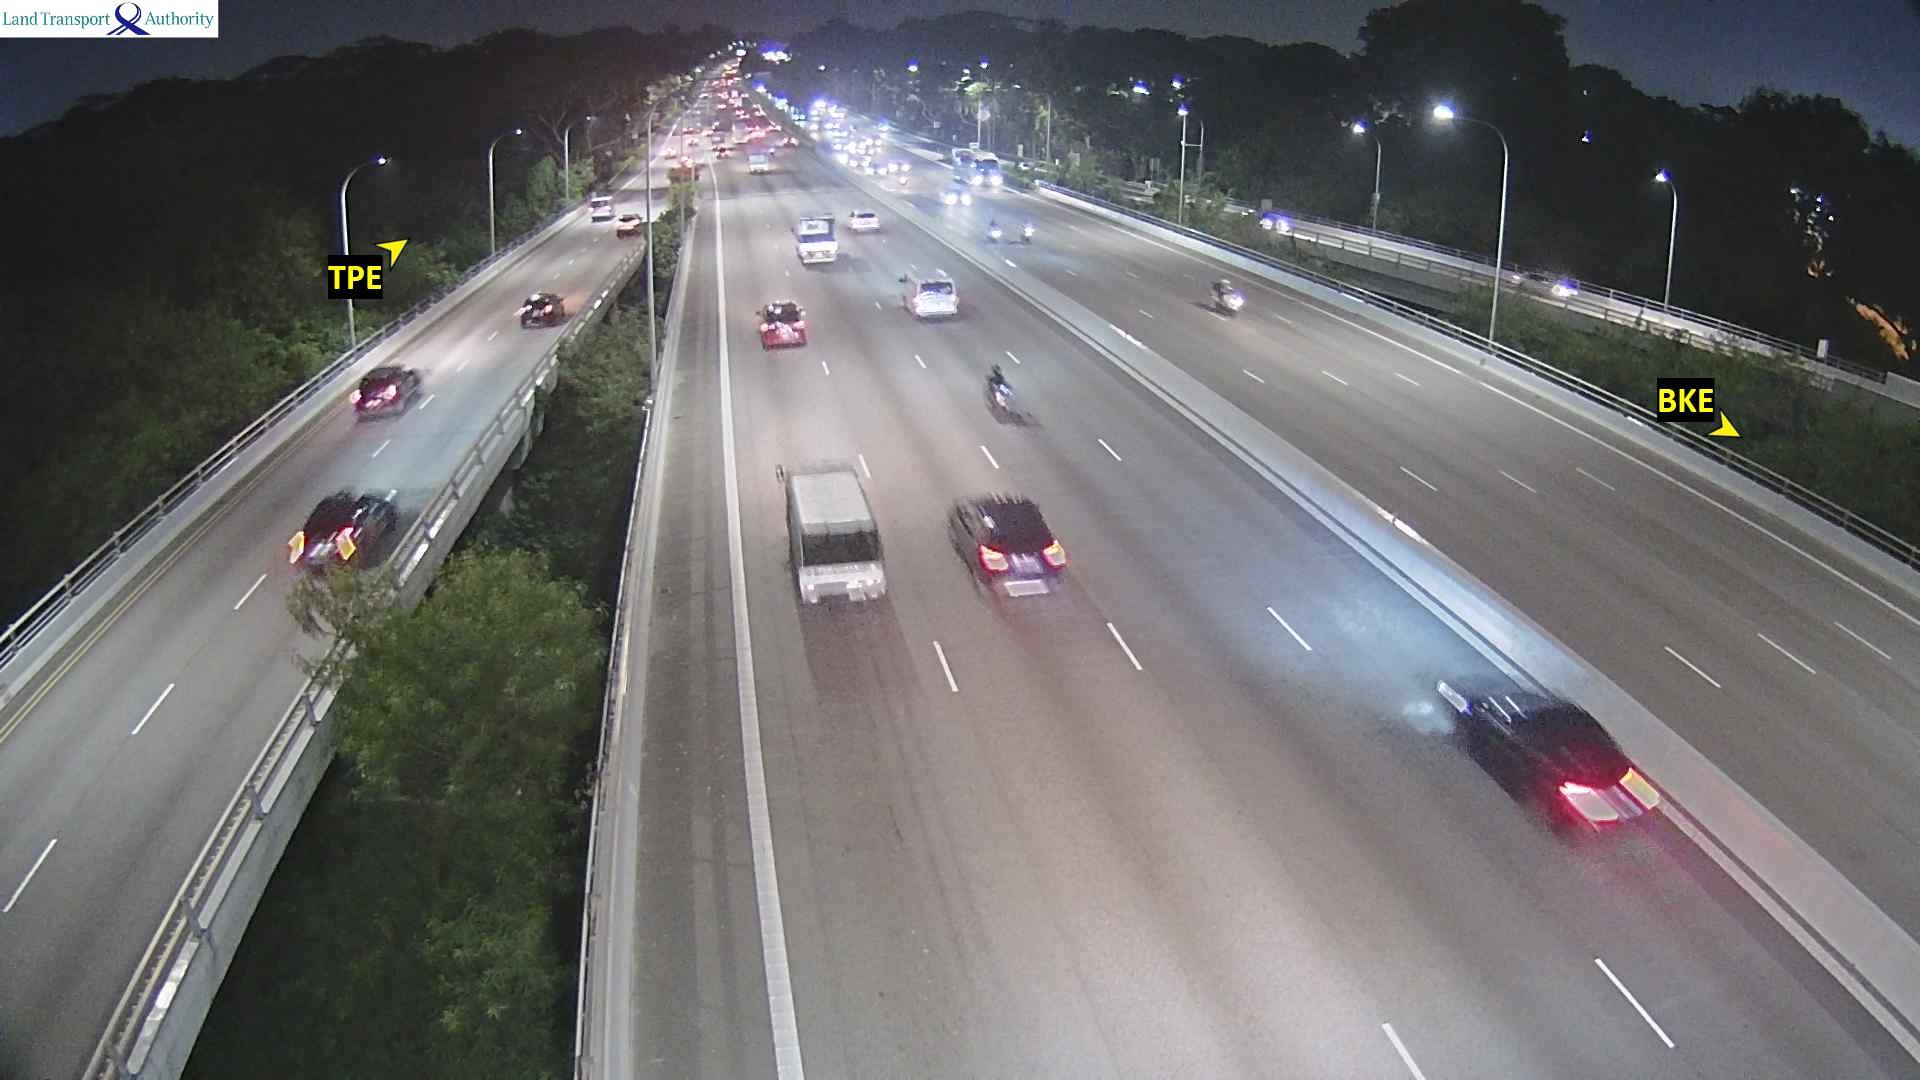incoming: (972, 156, 1005, 189), (1220, 286, 1250, 314), (1545, 277, 1575, 299), (940, 187, 972, 207), (1261, 211, 1287, 231), (1021, 225, 1043, 243), (889, 160, 914, 174), (989, 229, 1007, 244), (851, 156, 869, 169), (865, 133, 884, 146), (833, 140, 849, 154)
